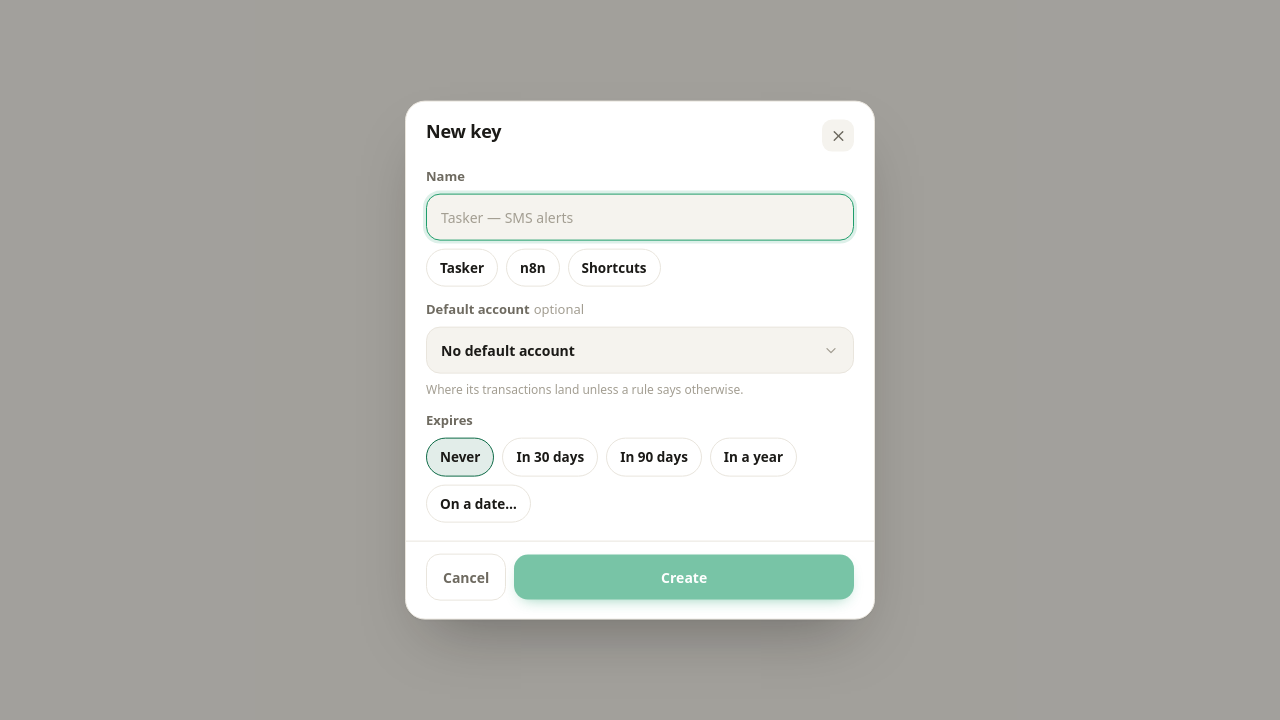
Test case: CreateKeyDialog › needs a name before it can create
The image size is (1280, 720).
Expected: the button "Create" is disabled, [514,554,854,599]
Type "Tasker" into the field labelled "Name" at (640, 217), box [426,194,854,240]
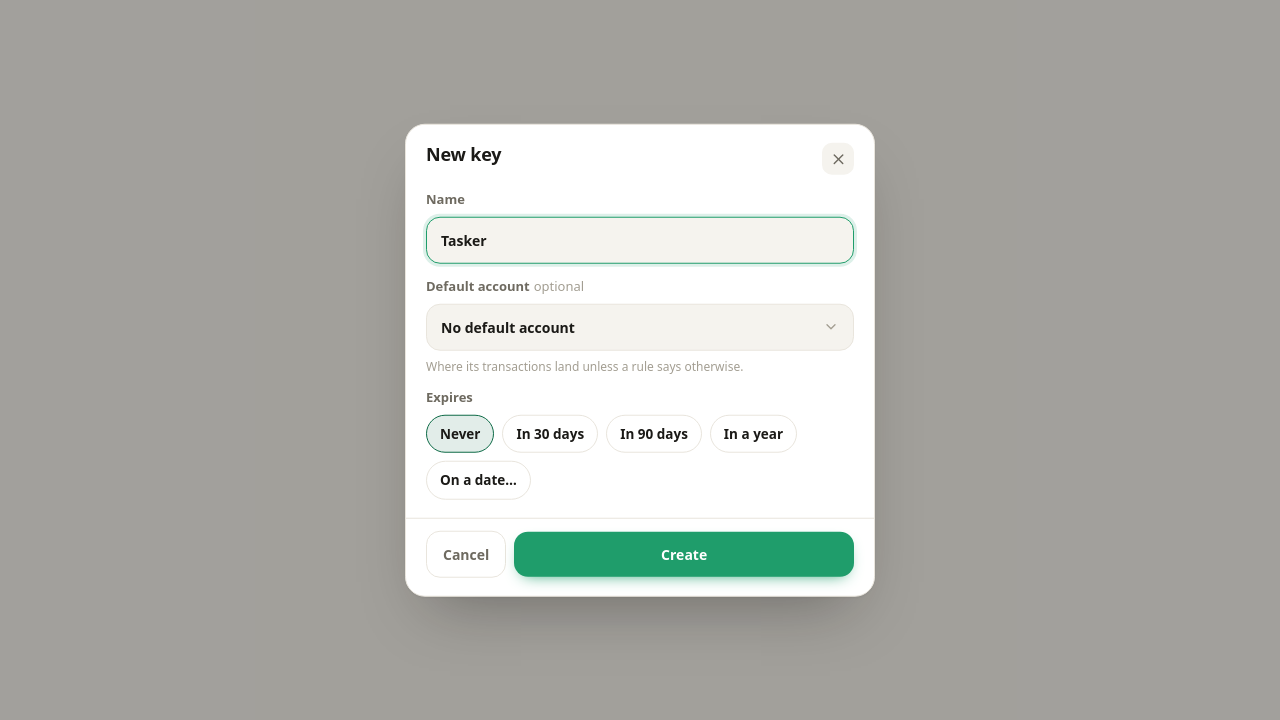
Expected: the button "Create" is enabled, [514,531,854,576]
